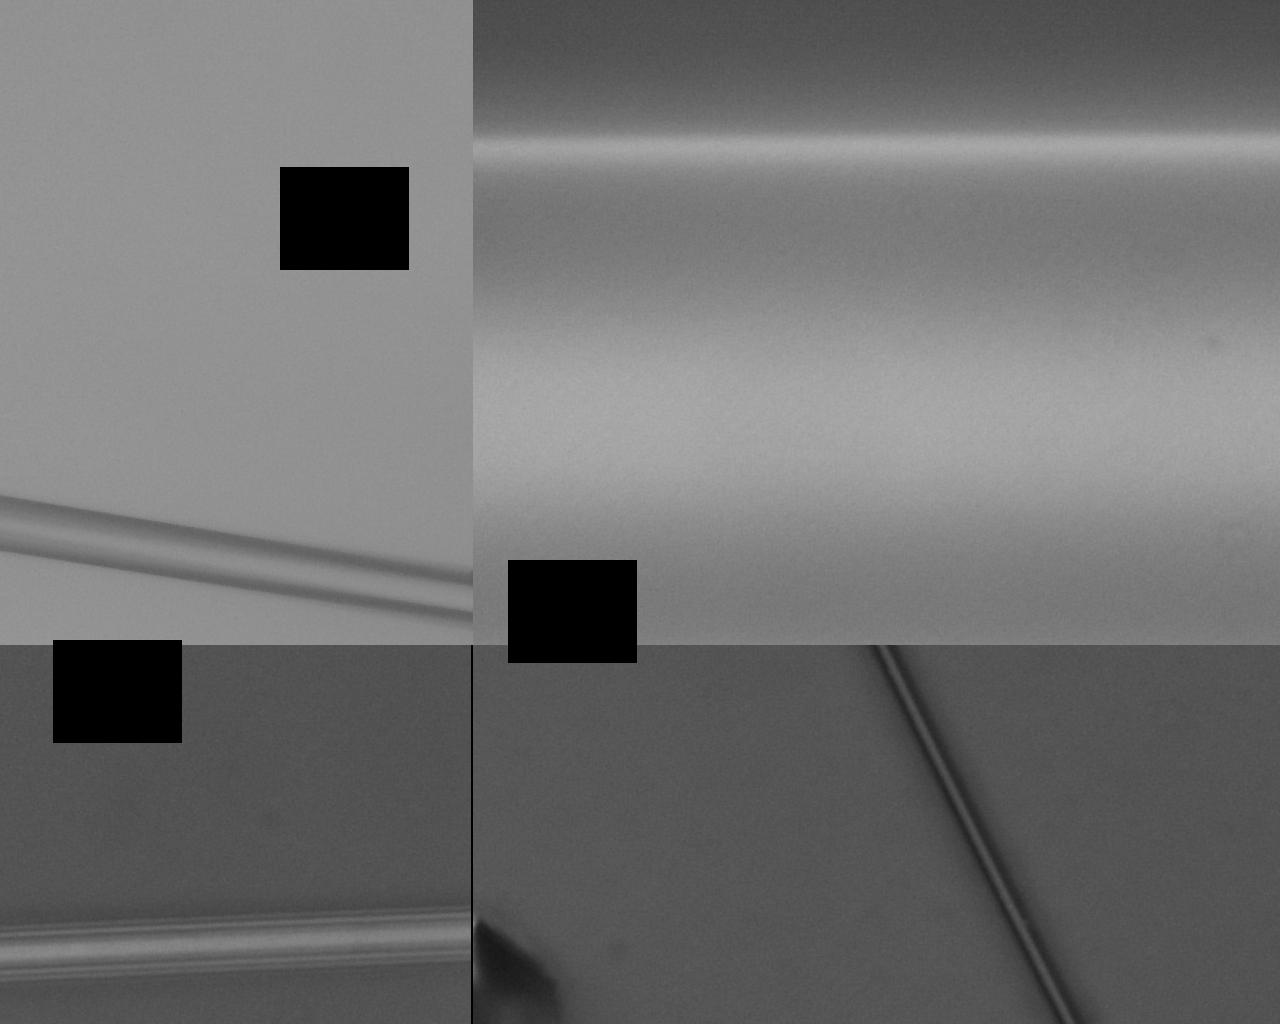fiber: (369, 368, 806, 1024), (1099, 109, 1280, 368), (806, 800, 1280, 847)
